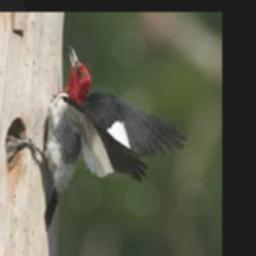Woodpecker: (7, 46, 185, 230)
